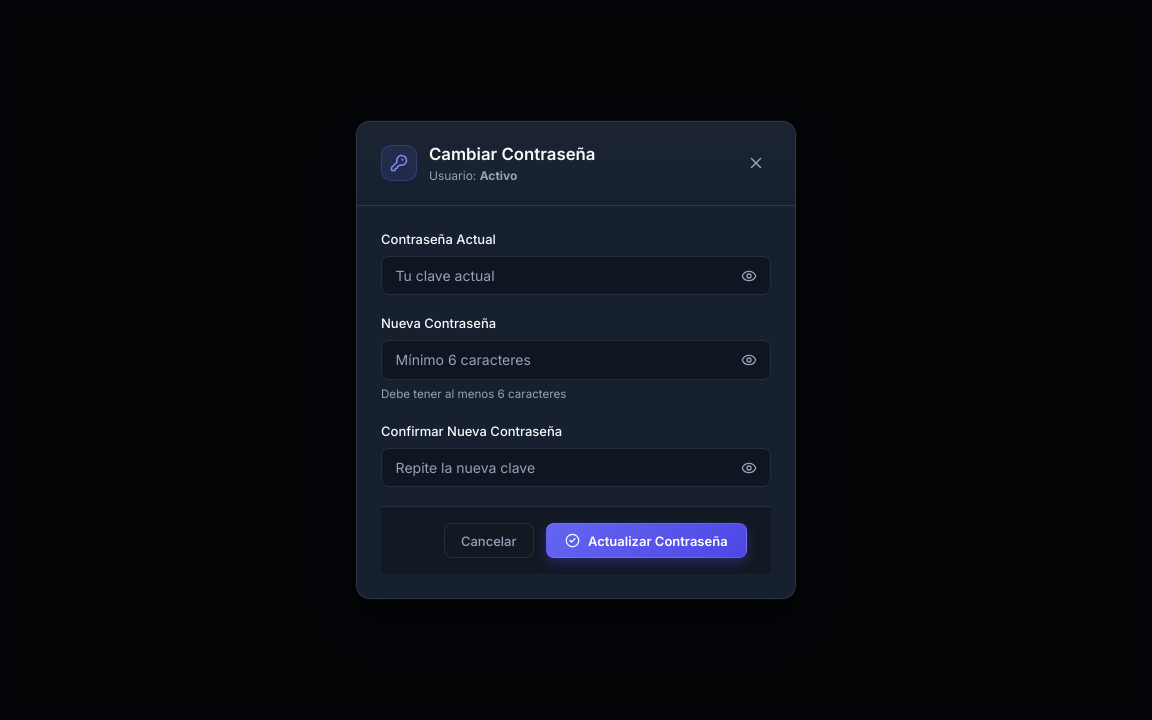
Test case: ChangePasswordModal Component › validates minimum length of 6 characters for new password
Type "oldPass123" into the password field labelled "Contraseña Actual" at (576, 276), box x1=381 y1=256 x2=771 y2=296
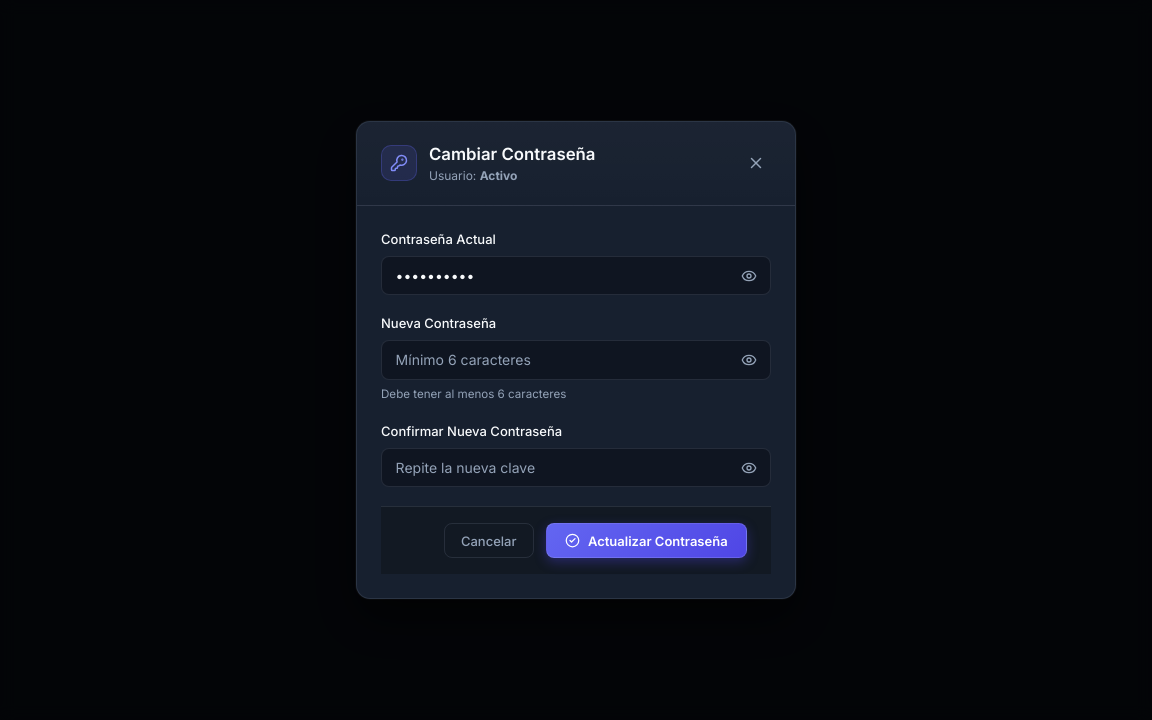
Type "123" into the password field labelled "Nueva Contraseña" at (576, 360), box x1=381 y1=340 x2=771 y2=380
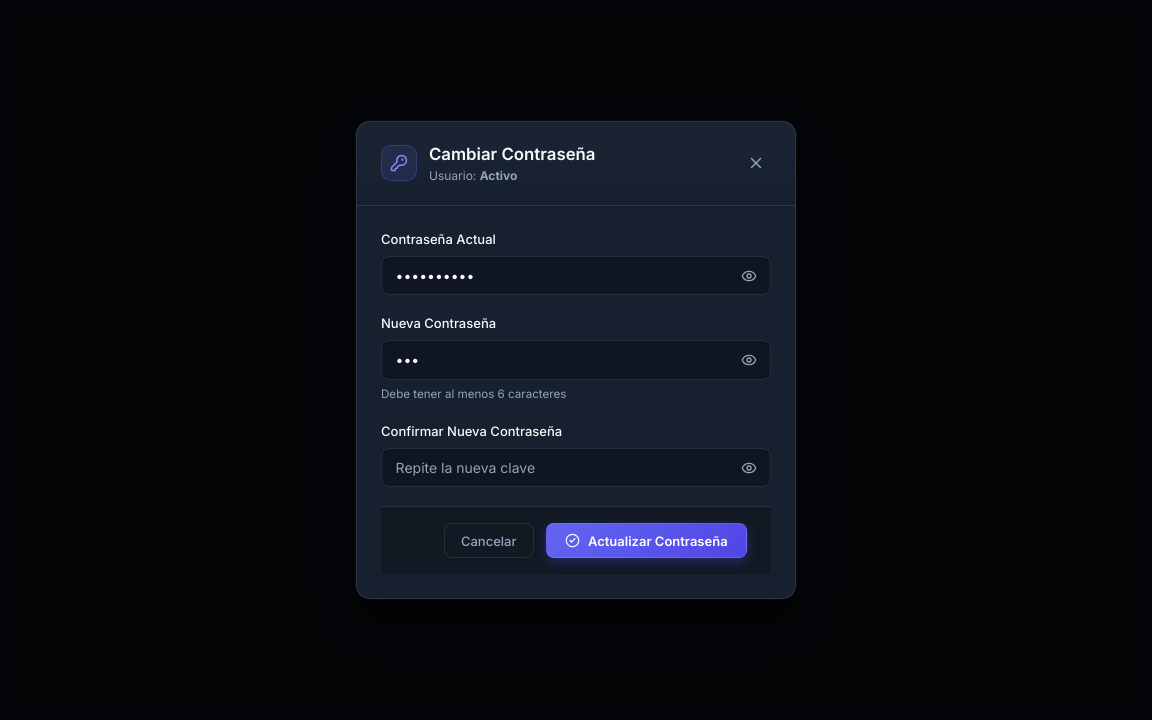
Type "123" into the password field labelled "Confirmar Nueva Contraseña" at (576, 468), box x1=381 y1=448 x2=771 y2=487
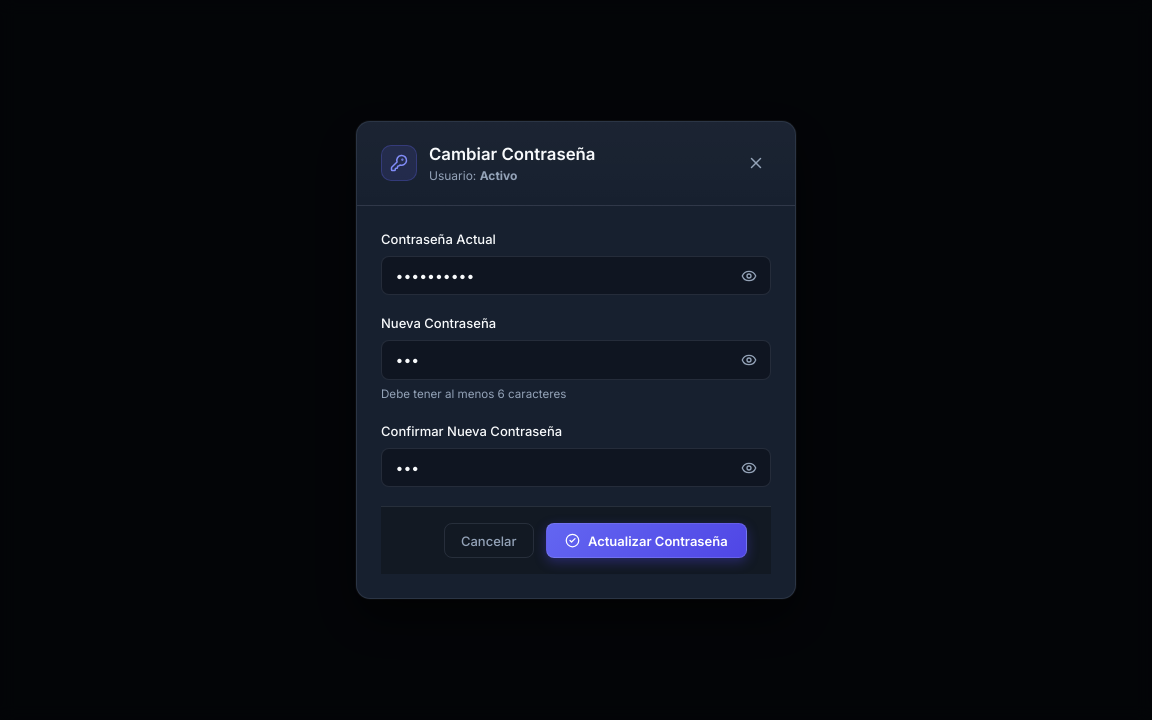
Click the button "Actualizar Contraseña" at (646, 541), box x1=546 y1=523 x2=747 y2=558
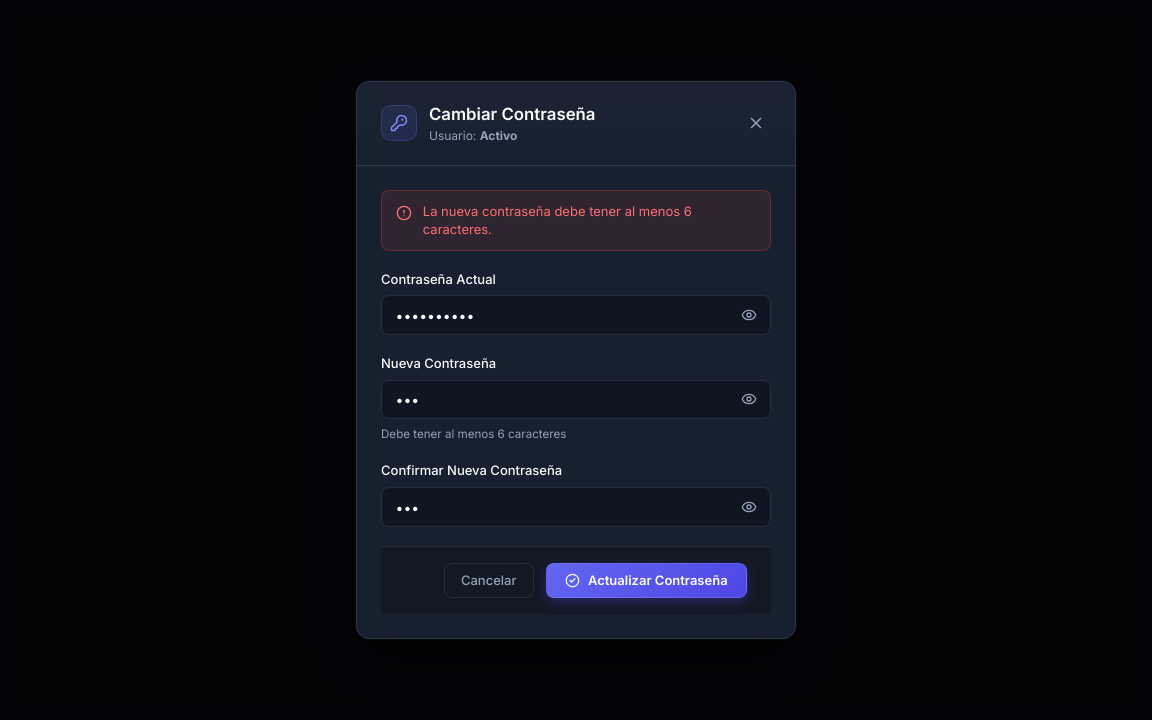
Result: the message shows "al menos 6 caracteres" at x1=423 y1=203 x2=692 y2=237
